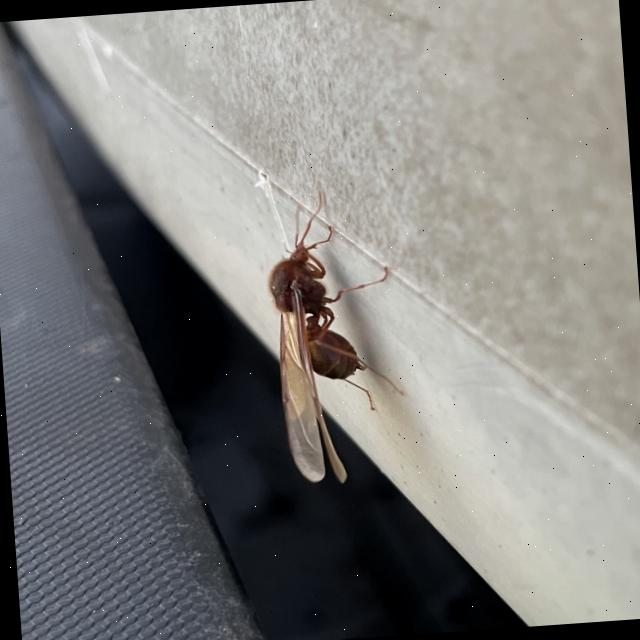Alive-Male-Alate: (262, 185, 411, 487)
